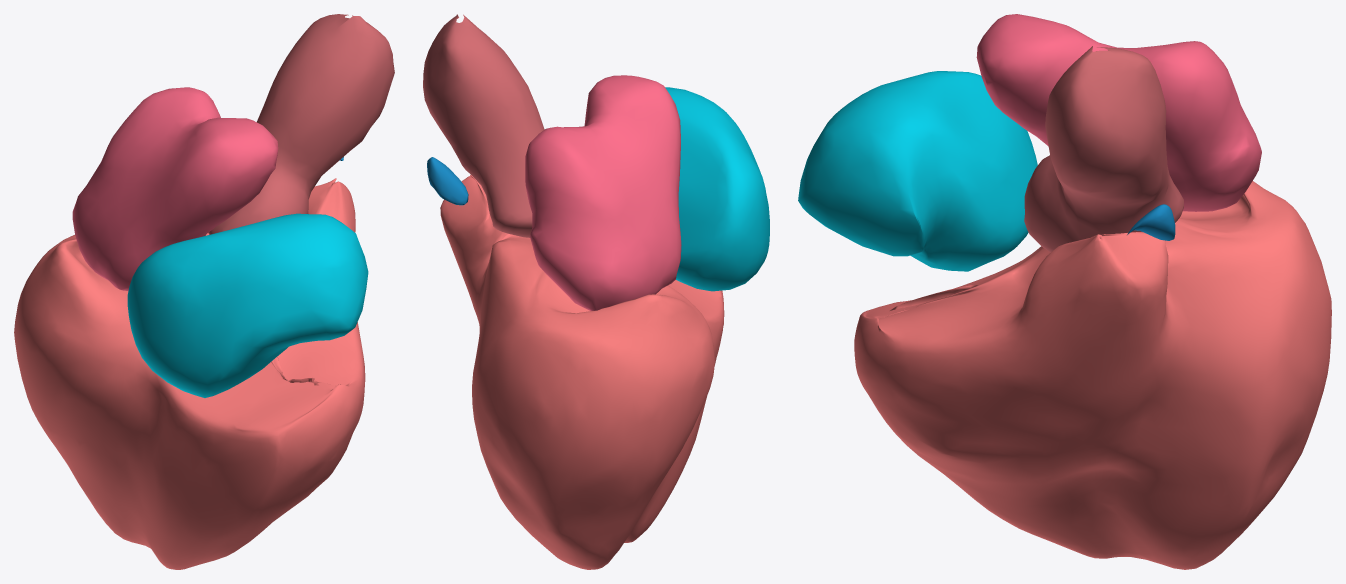
The model's file is frame_26.glb.
The picture shows the model from 3 angles, left to right: view 1: azimuth 30°, elevation 25°; view 2: azimuth 150°, elevation 25°; view 3: azimuth 270°, elevation 25°; orthographic projection. The views are drawn at different scales.
Parts seen in each view (by area): view 1: Renderer Node; view 2: Renderer Node; view 3: Renderer Node.
Boxes of the visible parts, x1=… form: Renderer Node: x1=14, y1=14, x2=394, y2=569; Renderer Node: x1=423, y1=14, x2=769, y2=569; Renderer Node: x1=798, y1=14, x2=1331, y2=569.
Bounding box in the file's own units: 98.5 × 151 × 119.
